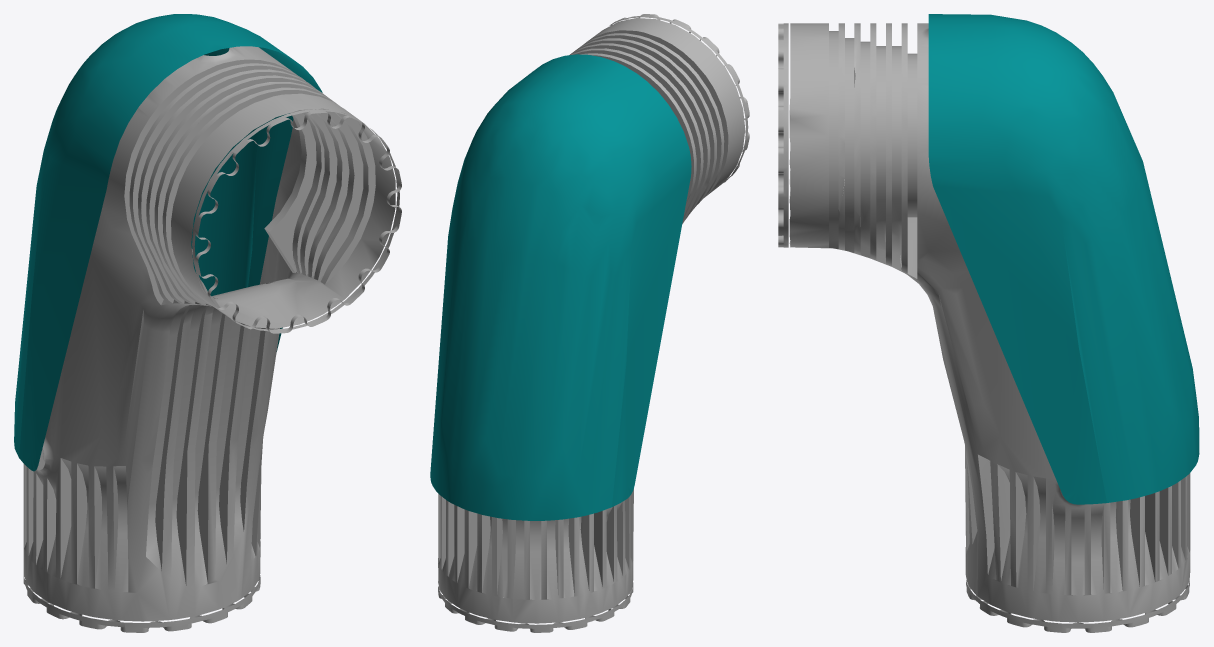
File: arm-L2.dae
3 renders of one model, left to right at view 1: azimuth 30°, elevation 25°; view 2: azimuth 150°, elevation 25°; view 3: azimuth 270°, elevation 25°, orthographic. The views are drawn at different scales.
Visible parts, largest first — view 1: arm-L2; view 2: arm-L2; view 3: arm-L2.
Boxes of the visible parts, <box> form: arm-L2: <box>14,14,401,632</box>; arm-L2: <box>430,14,749,632</box>; arm-L2: <box>778,14,1199,632</box>.
Bounding box in the file's own units: 0.0808 × 0.2037 × 0.1387.
